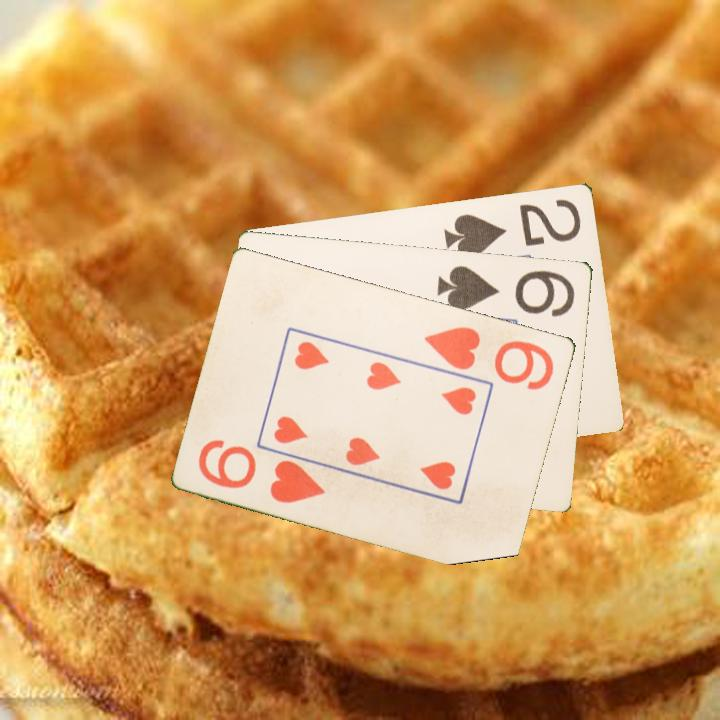2s: (441, 195, 585, 260)
6h: (420, 322, 558, 393), (195, 435, 329, 506)
6s: (434, 262, 579, 319)
